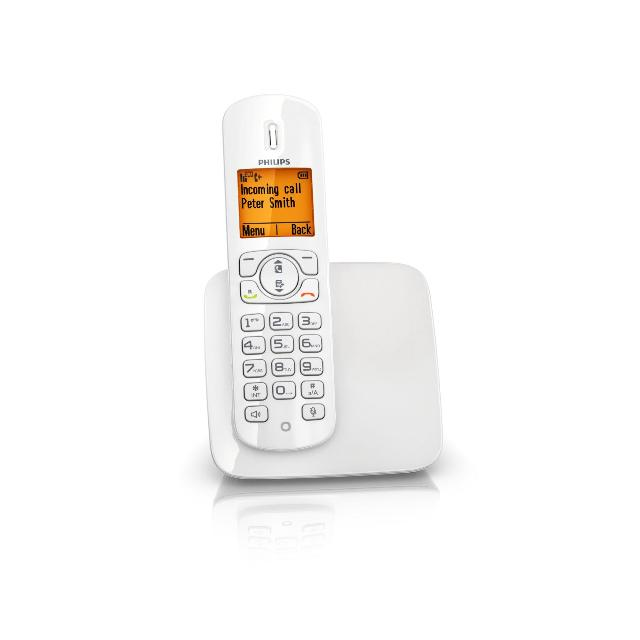Telephone-Set: (160, 66, 492, 510)
